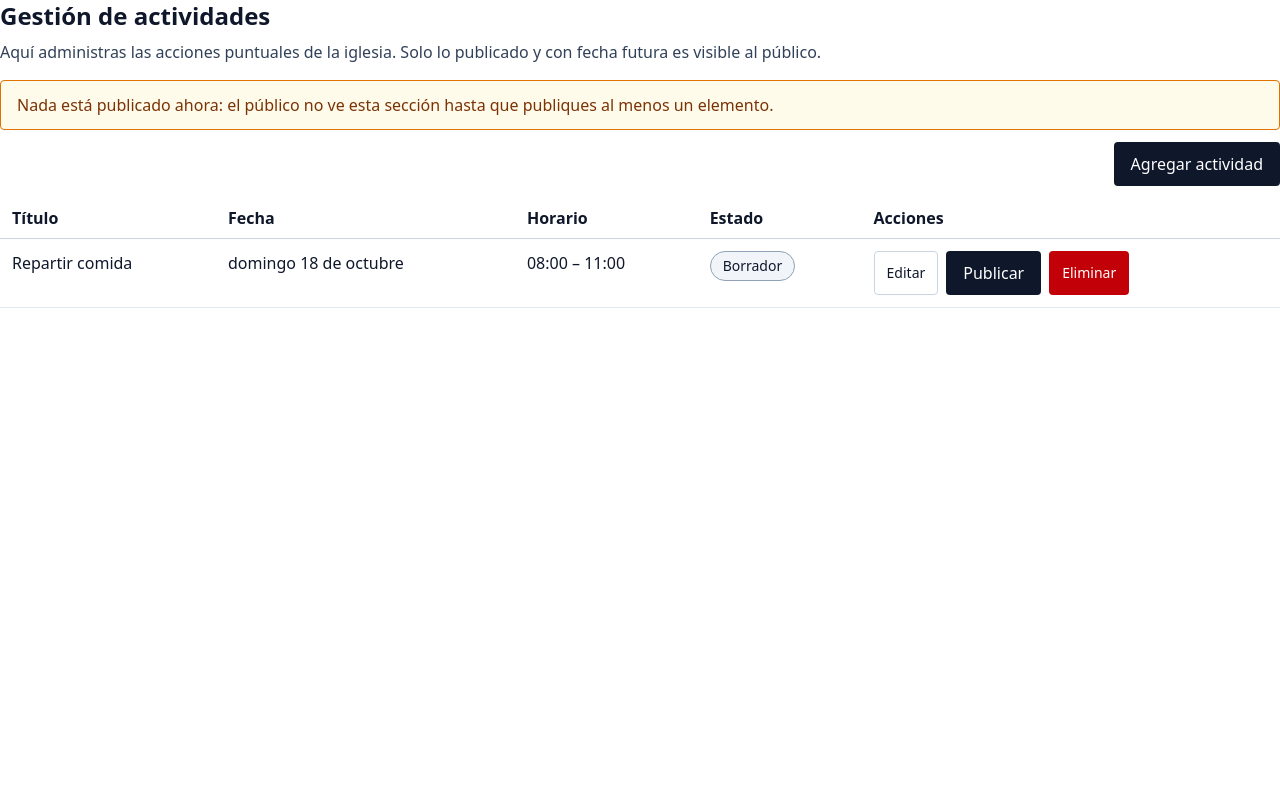
Test: ActivitiesList · publicar, retirar y eliminar (US4) › eliminar pide confirmación explícita
Click the button "Eliminar" at (1089, 273), box left=1049, top=251, right=1129, bottom=295
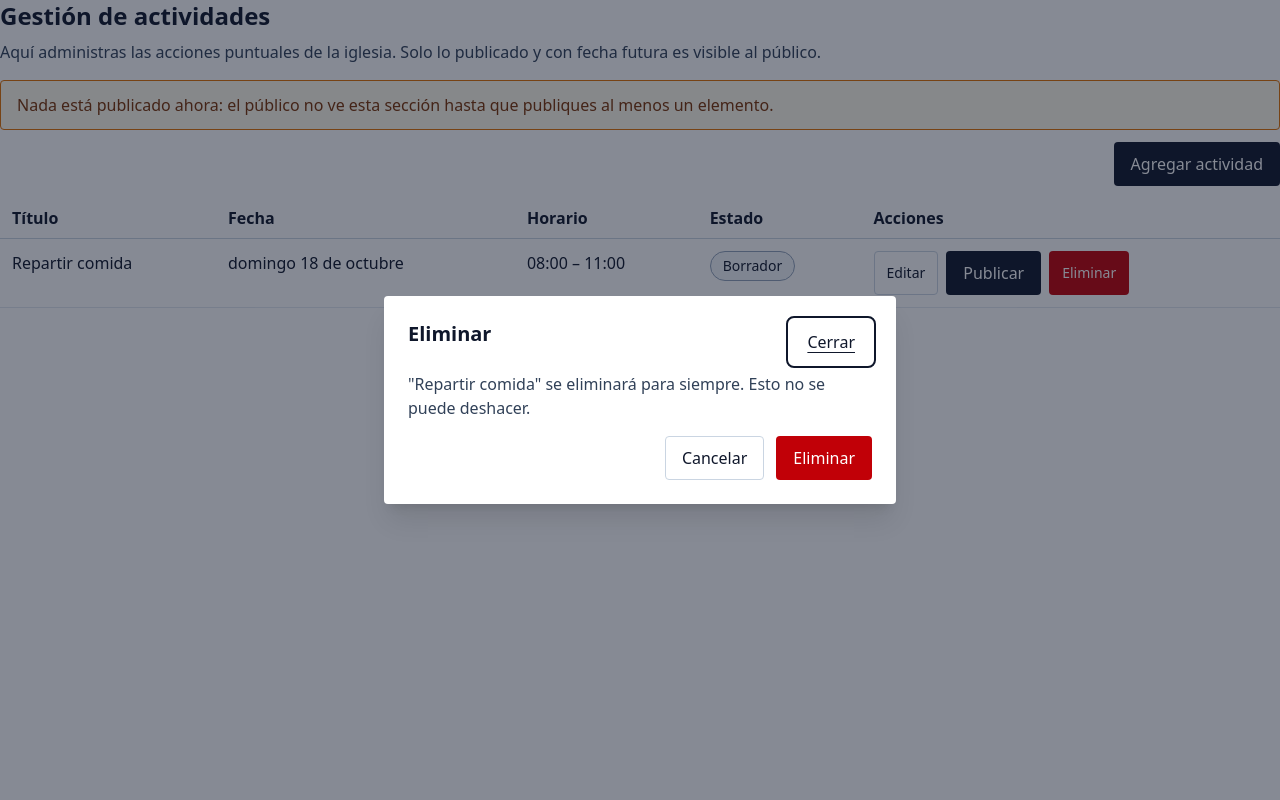
Expected: the text "\"Repartir comida\" se eliminará para siempre. Esto no se puede deshacer." is shown, left=408, top=372, right=872, bottom=420
Click the button "Eliminar" at (824, 458), box left=776, top=436, right=872, bottom=480
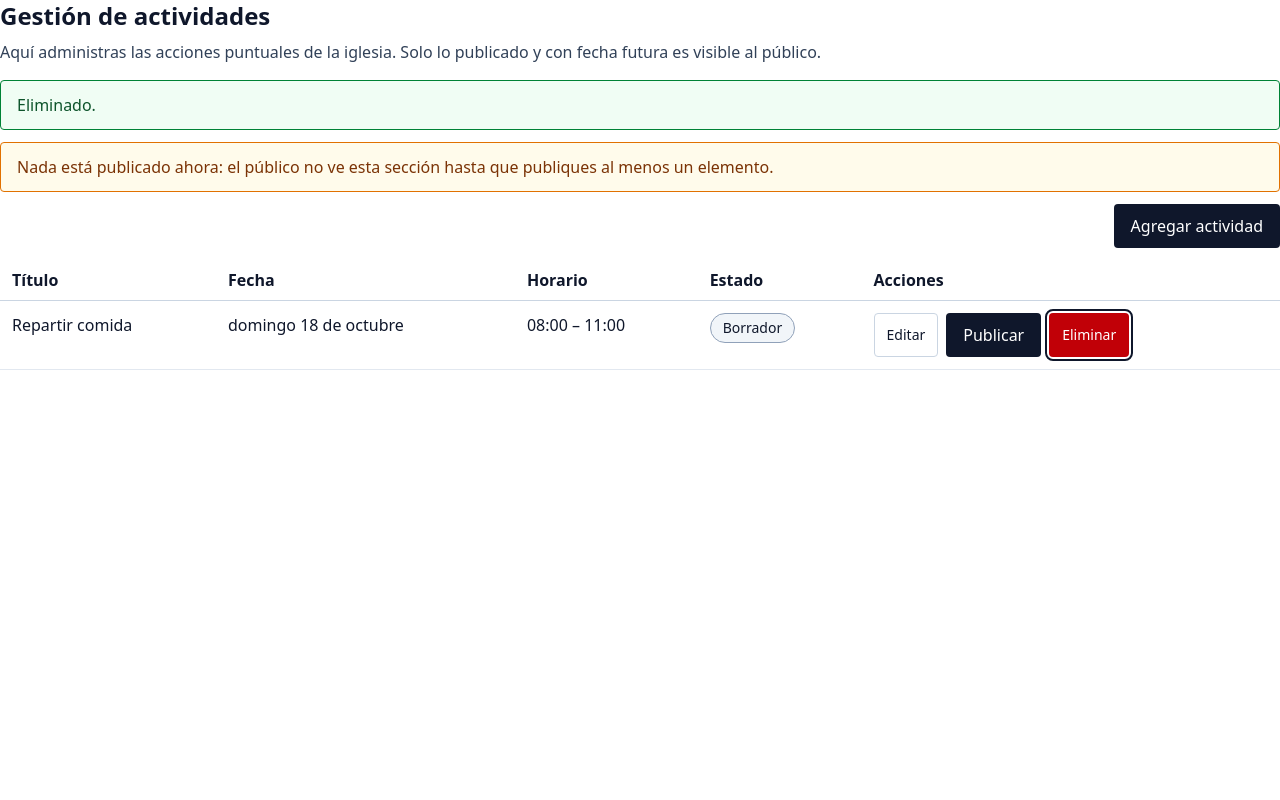
Expected: the text "Eliminado." is shown, left=0, top=80, right=1279, bottom=130
